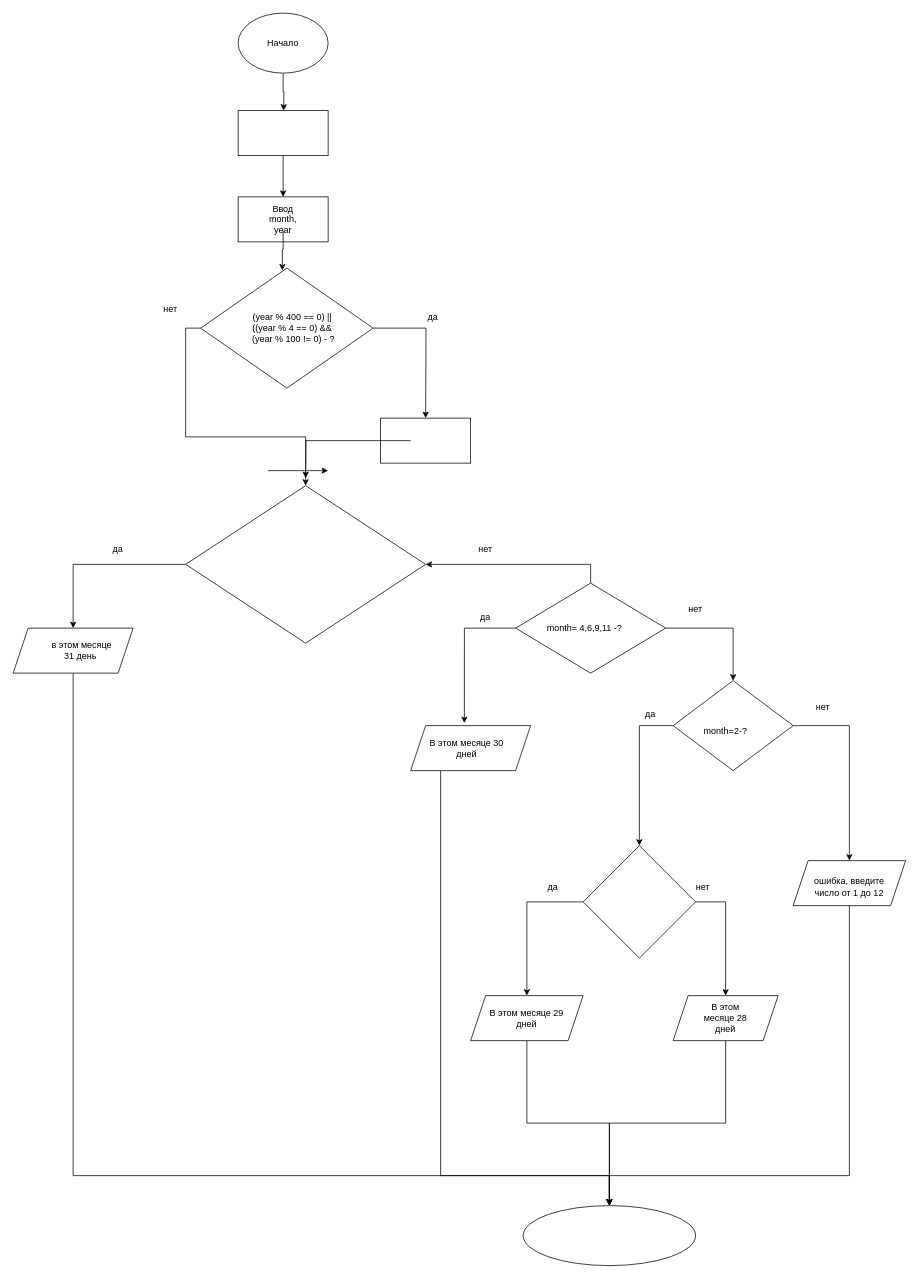
The diagram is 919 pixels wide and 1279 high, and some of its shapes have lost their labels. The shapes that lost their labels are listed below. From the top down, each one's centre as x and y in pixels, then its label:
At point (282, 133): "vis=0".
At point (425, 440): "vis=1".
At point (305, 564): "month= 1,3,5,7,8,10,12 - ?".
At point (639, 901): "vis==1-?".
At point (609, 1235): "КОНЕЦ".
